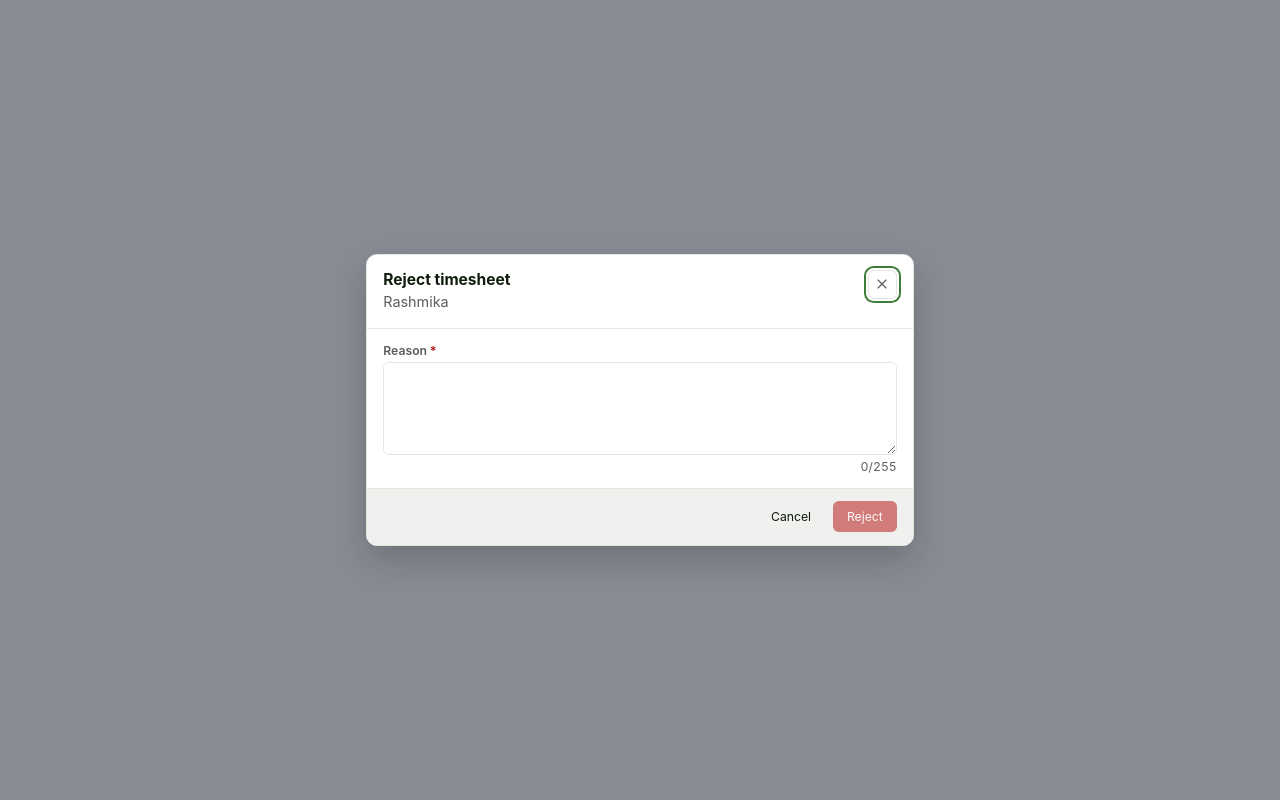
Test: reject comment counter › counts the characters used out of 255
Expected: the text named "0 of 255 characters used" reads "0/255", [861,459,897,474]
In the text box: [640, 408] box [383,362,897,455], type "Wrong project"
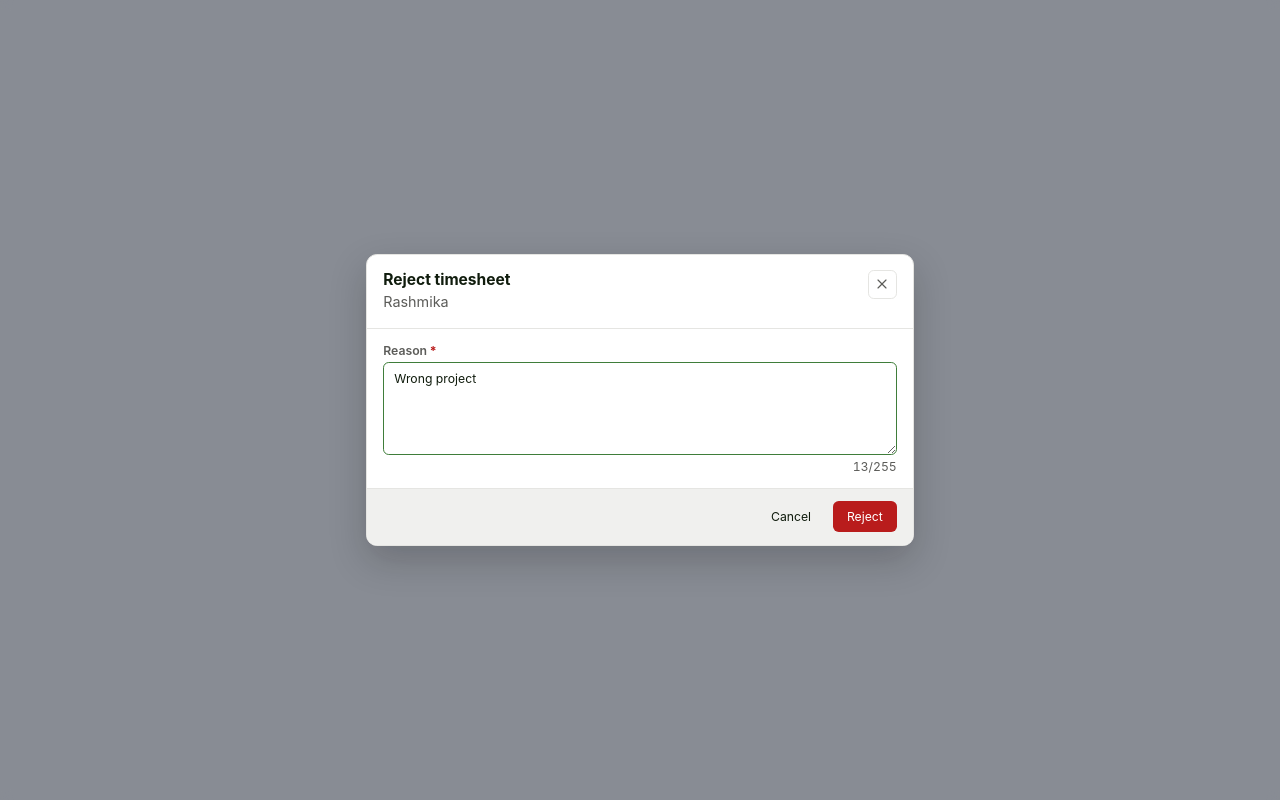
Expected: the text named "13 of 255 characters used" reads "13/255", [853,459,897,474]
